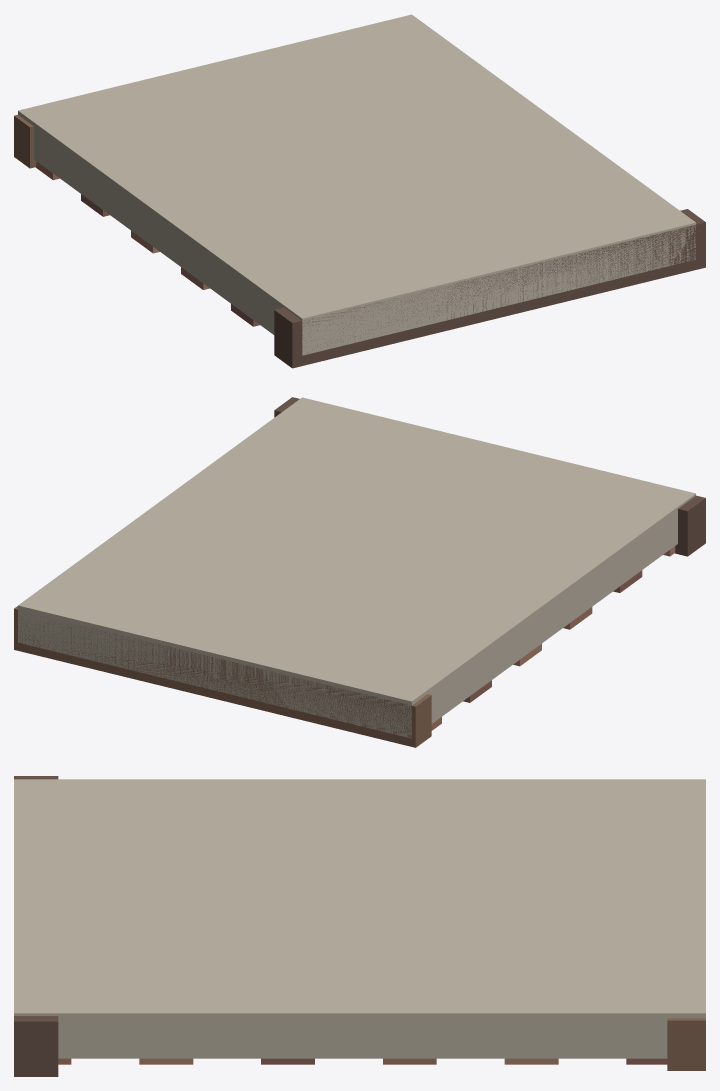
File: tier03_brick_masonry_wall.glb
3 views of the same model, one above another, from view 1: azimuth 30°, elevation 25°; view 2: azimuth 150°, elevation 25°; view 3: azimuth 270°, elevation 25° (orthographic). The views are drawn at different scales.
Parts seen in each view (by area): view 1: tier03_brick_masonry_wall_000, tier03_brick_masonry_wall_051, tier03_brick_masonry_wall_052; view 2: tier03_brick_masonry_wall_000, tier03_brick_masonry_wall_052, tier03_brick_masonry_wall_051; view 3: tier03_brick_masonry_wall_000, tier03_brick_masonry_wall_051, tier03_brick_masonry_wall_052.
Part boxes in pixels (x1,y1,x2,y2): tier03_brick_masonry_wall_000: (18,14,695,355); tier03_brick_masonry_wall_051: (274,209,705,368); tier03_brick_masonry_wall_052: (14,114,36,168); tier03_brick_masonry_wall_000: (18,397,695,738); tier03_brick_masonry_wall_052: (14,606,431,747); tier03_brick_masonry_wall_051: (274,397,705,556); tier03_brick_masonry_wall_000: (14,779,705,1058); tier03_brick_masonry_wall_051: (14,776,58,1076); tier03_brick_masonry_wall_052: (667,1018,705,1070).
Size of the model in its own units: 2.1 by 0.23 by 2.5.
